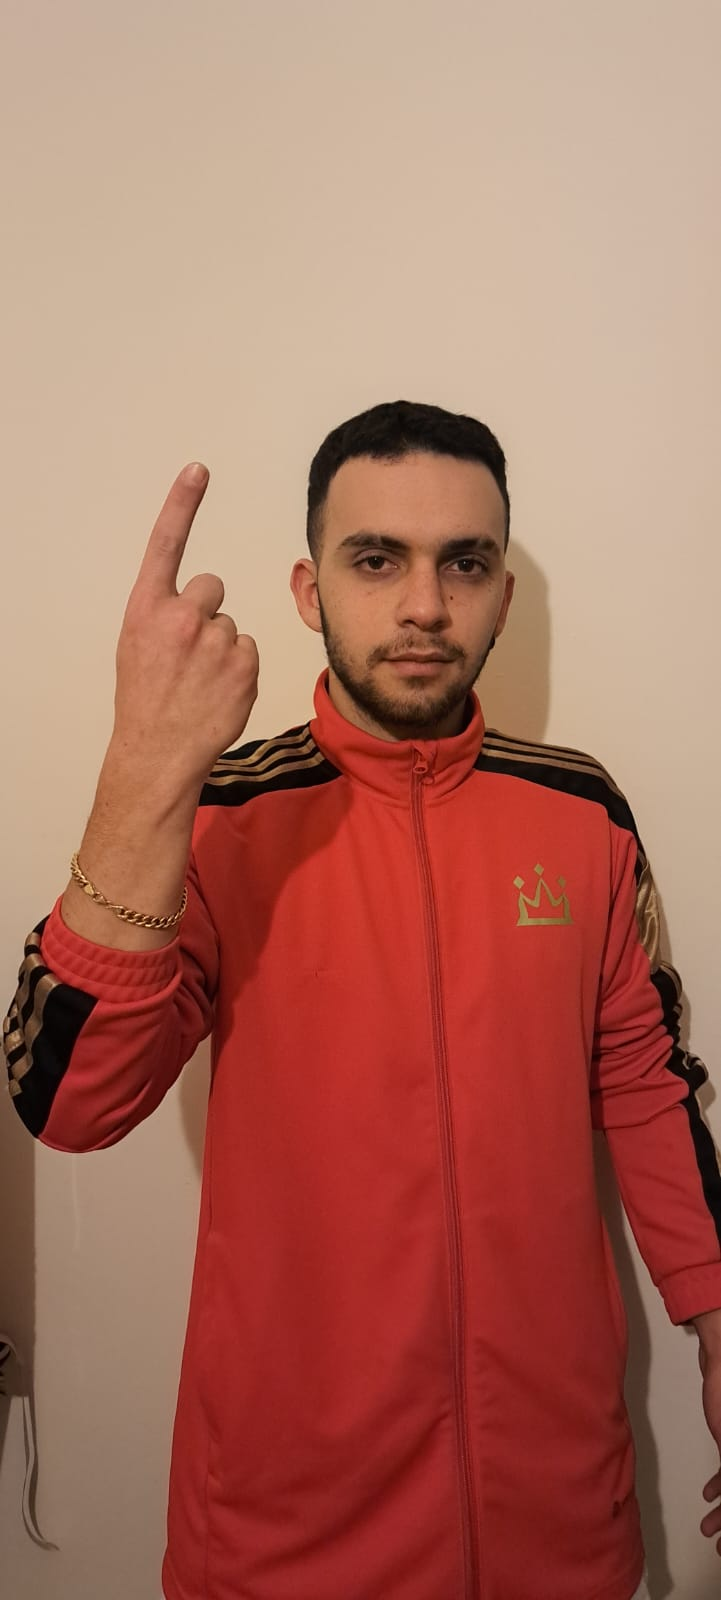joke: (103, 459, 264, 798)
